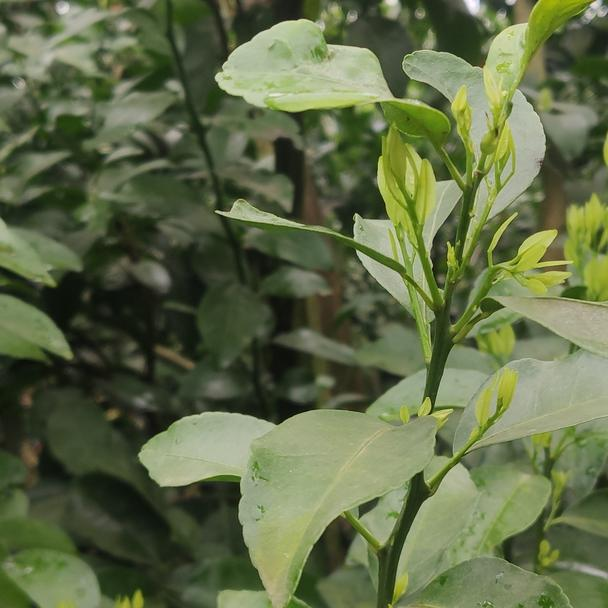shoot: (375, 131, 447, 260), (476, 219, 572, 310), (472, 363, 521, 453), (481, 129, 530, 207), (445, 85, 485, 158)
